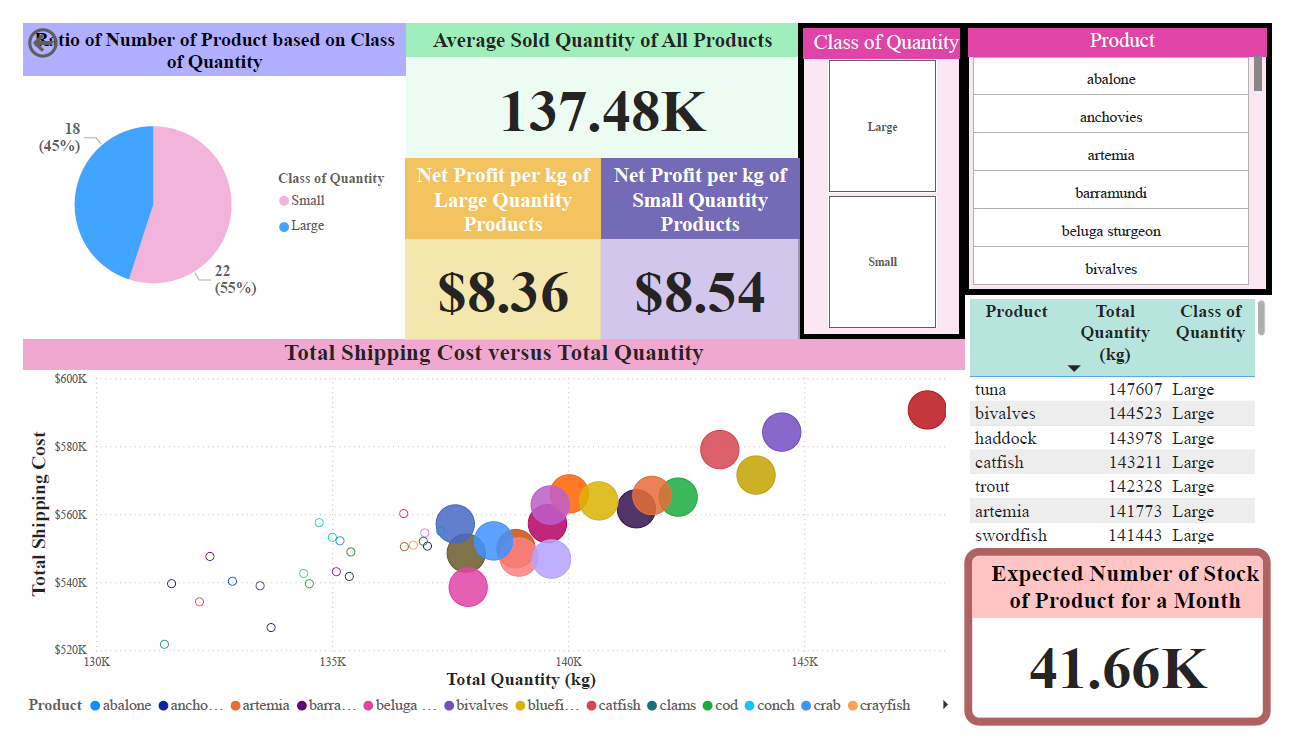

This screenshot's page, from the dashboard's own definition file:
{"tool":"powerbi","page":{"name":"Stock Management","canvas":[1280,720],"ordinal":7},"visuals":[{"type":"card","title":"Average Sold Quantity of All Products","fields":{"Values":["Measures Folder.avgSoldQuantity"]},"box":[392.3,0,403.3,139.1],"z":0},{"type":"tableEx","fields":{"Values":["productdata.product","Sum(orderdata.quantity (kg))","Measures Folder.quantityClass"]},"box":[964.8,277.9,314.5,260.5],"z":1000},{"type":"pieChart","title":"Ratio of Number of Product based on Class of Quantity","fields":{"Y":["Measures Folder.Small","Measures Folder.Large"]},"box":[0,0,391.7,324.2],"z":2000},{"type":"slicer","title":"Class of Quantity","fields":{"Values":["quantityClass.quantity class"]},"box":[795,0,169.8,324.2],"z":3000},{"type":"scatterChart","title":"Total Shipping Cost versus Total Quantity","fields":{"Y":["orderdata.shipping cost"],"X":["Sum(orderdata.quantity (kg))"],"Series":["productdata.product"],"Size":["Measures Folder.large"]},"box":[0,324.2,964.8,395.6],"z":4000},{"type":"actionButton","box":[0,0,100,40],"z":5000},{"type":"card","title":"Net Profit per kg of Small Quantity Products","fields":{"Values":["Measures Folder.netProfitPerKg_small"]},"box":[592.4,139.1,203.2,184.4],"z":6000},{"type":"card","title":"Net Profit per kg of Large Quantity Products","fields":{"Values":["Measures Folder.netProfitPerKg_large"]},"box":[392.3,139.1,200.1,184.4],"z":7000},{"type":"card","title":"Expected Number of Stock of Product for a Month","fields":{"Values":["Measures Folder.ExpectedNumSupply"]},"box":[964.8,538.4,314.5,181.4],"z":8000},{"type":"advancedSlicerVisual","title":"Product","fields":{"Values":["productdata.product"]},"box":[964.4,0,315.7,278.2],"z":9000}]}

Visuals, with their boxes in screenshot pixels (x1, y1, x2, y2), scaled from the page's 1280x720 canvas onto the 1292x743 screenshot:
"Average Sold Quantity of All Products" card: [x1=396, y1=0, x2=803, y2=144]
tableEx - productdata.product x Sum(orderdata.quantity (kg)): [x1=974, y1=287, x2=1291, y2=556]
"Ratio of Number of Product based on Class of Quantity" pieChart: [x1=0, y1=0, x2=395, y2=335]
"Class of Quantity" slicer: [x1=802, y1=0, x2=974, y2=335]
"Total Shipping Cost versus Total Quantity" scatterChart: [x1=0, y1=335, x2=974, y2=742]
actionButton: [x1=0, y1=0, x2=101, y2=41]
"Net Profit per kg of Small Quantity Products" card: [x1=598, y1=144, x2=803, y2=334]
"Net Profit per kg of Large Quantity Products" card: [x1=396, y1=144, x2=598, y2=334]
"Expected Number of Stock of Product for a Month" card: [x1=974, y1=556, x2=1291, y2=742]
"Product" advancedSlicerVisual: [x1=973, y1=0, x2=1291, y2=287]
